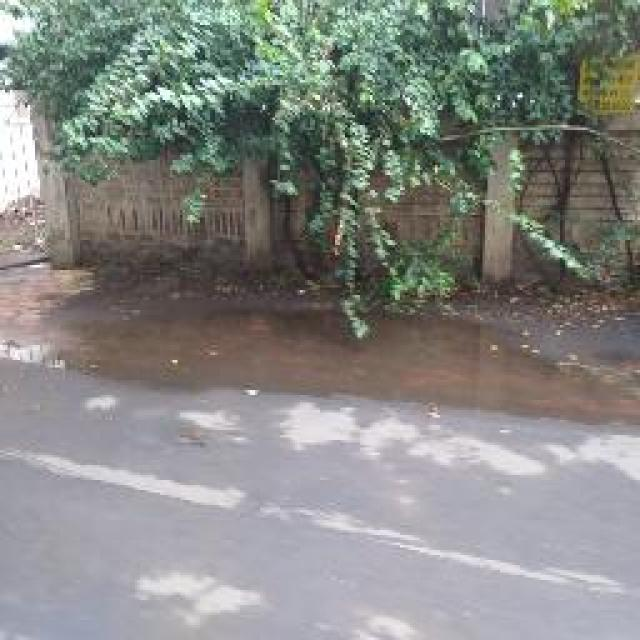stagnation: (72, 285, 618, 421)
